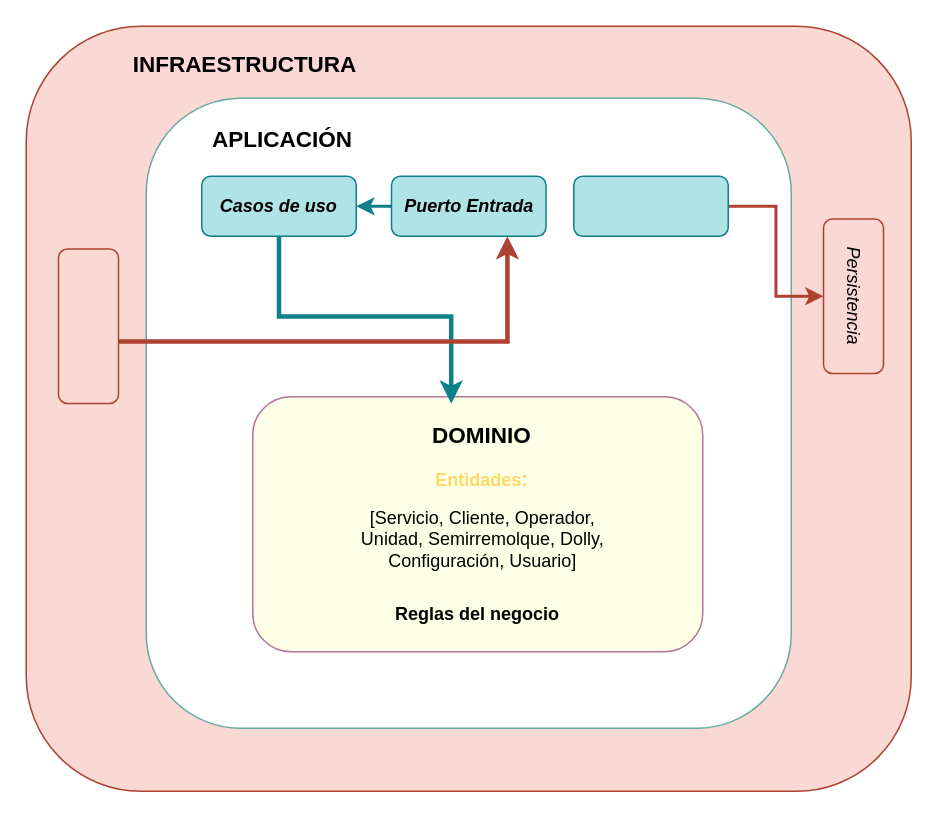
The diagram is 938 pixels wide and 818 high, and some of its shapes have lost their labels. The shapes that lost their labels are listed below. From the top down, each one's box as (x1, y1, x2, y2) in pixels, then its label:
(572, 175, 728, 236): Puerto Salida
(57, 248, 118, 404): Adaptador Web
